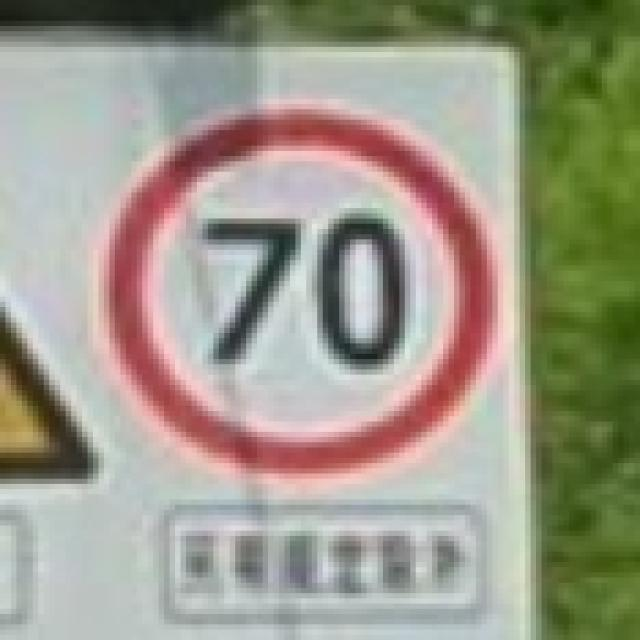Speed Limit -70-: (196, 211, 414, 379)
